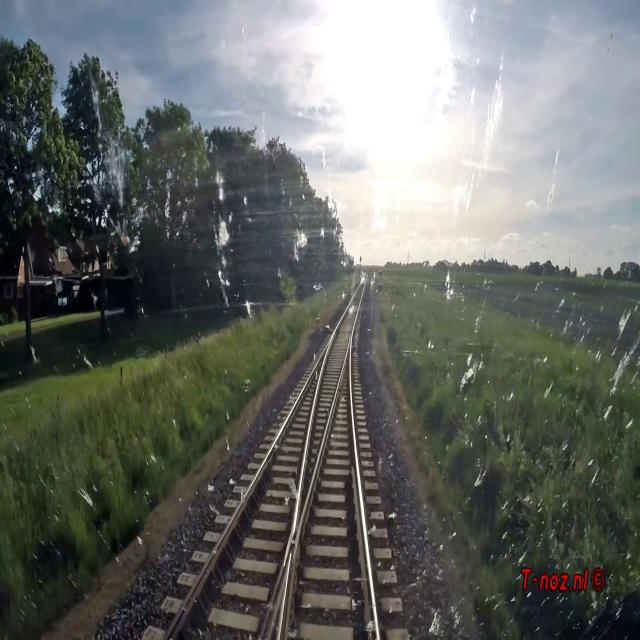rail-track: (178, 351, 325, 639), (281, 350, 366, 639), (298, 273, 366, 522)
